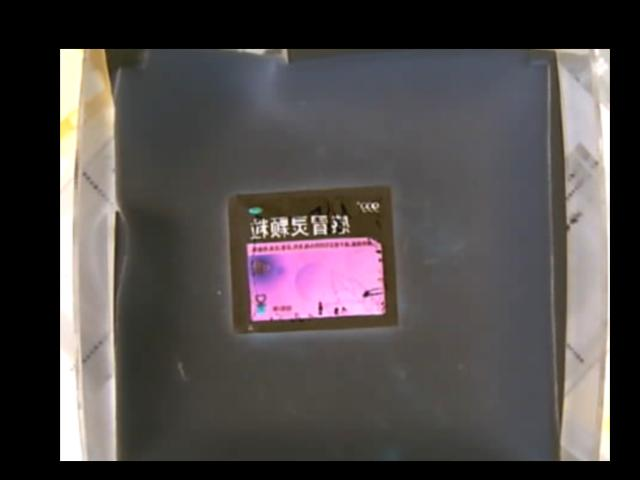Medicine: (229, 184, 397, 334)
